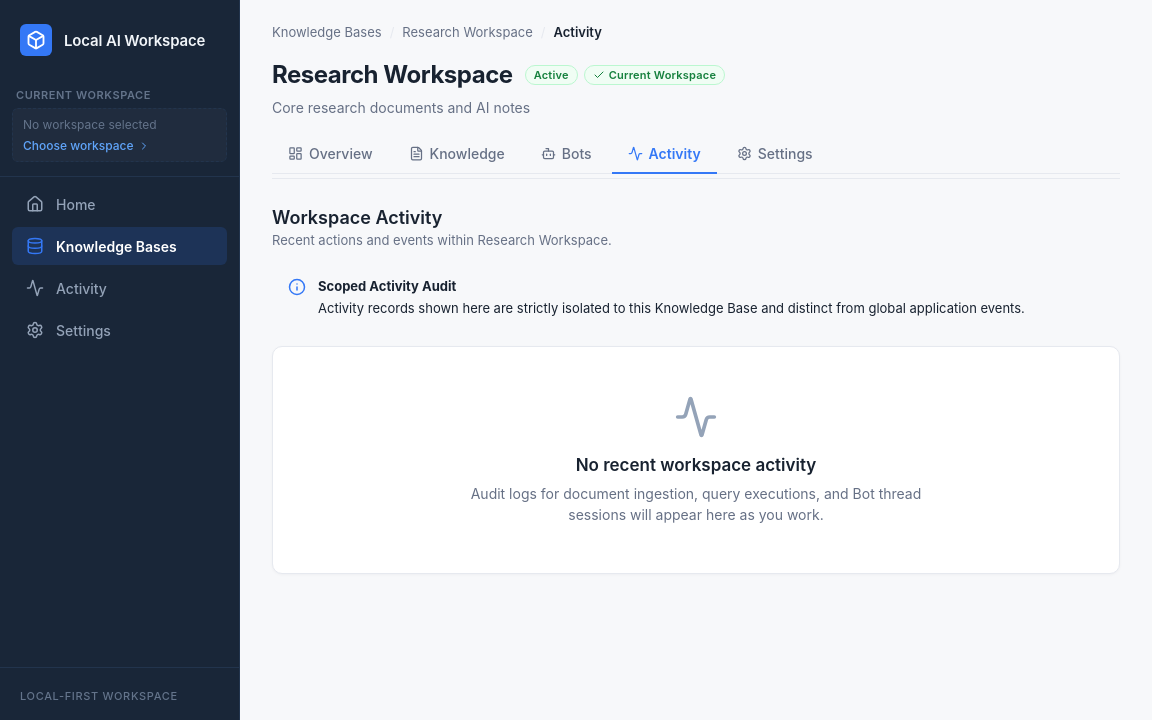
Scenario: Renderer: Knowledge Base Workspace Shell & Navigation (Phase 4 Step 4.5) › 3. Disambiguation: Global Activity vs Workspace Activity › keeps global application Activity and workspace Activity routes completely distinct
The image size is (1152, 720).
Expected: the element with test id "workspace-activity-tab" is shown, [272,207,1120,574]
Expected: the heading "Workspace Activity" is shown, [272,207,442,228]
Click global Activity link in sidebar
Click the link "Activity". click: (66, 288)
box: [26,279,107,297]
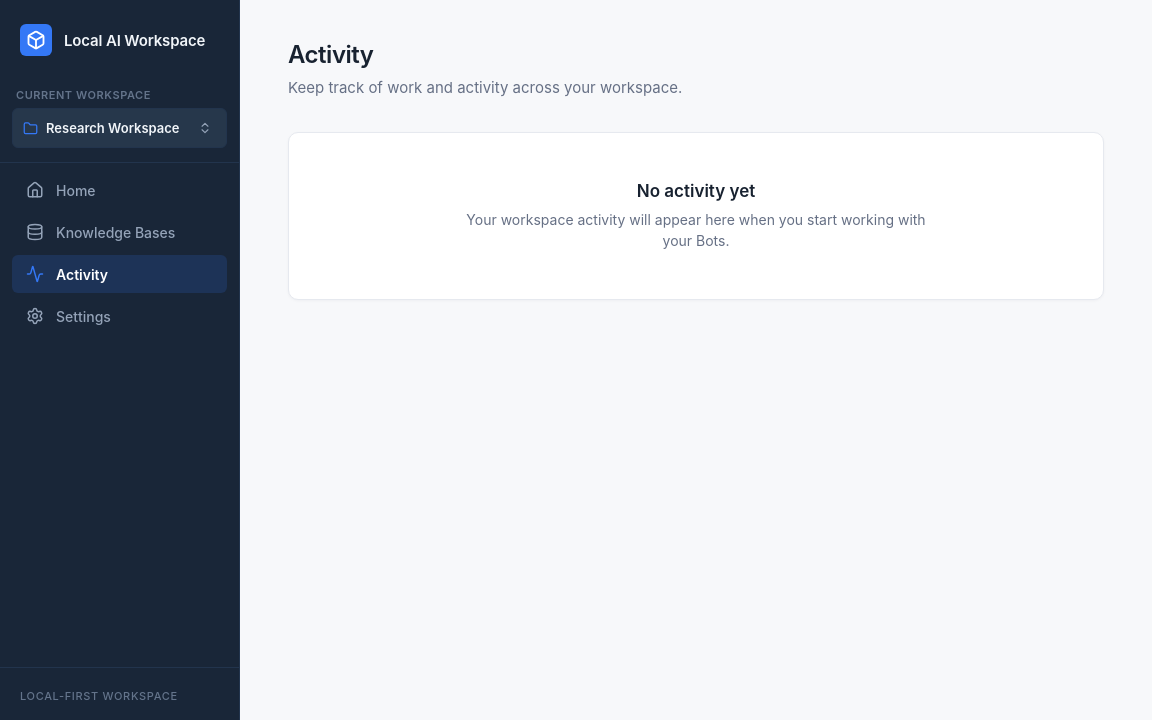
Expected: the heading "Activity" is shown, [288,40,374,69]
Now the text "Keep track of work and activity across your workspace." is shown, box [288,78,682,97]
Now the element with test id "workspace-activity-tab" is gone
